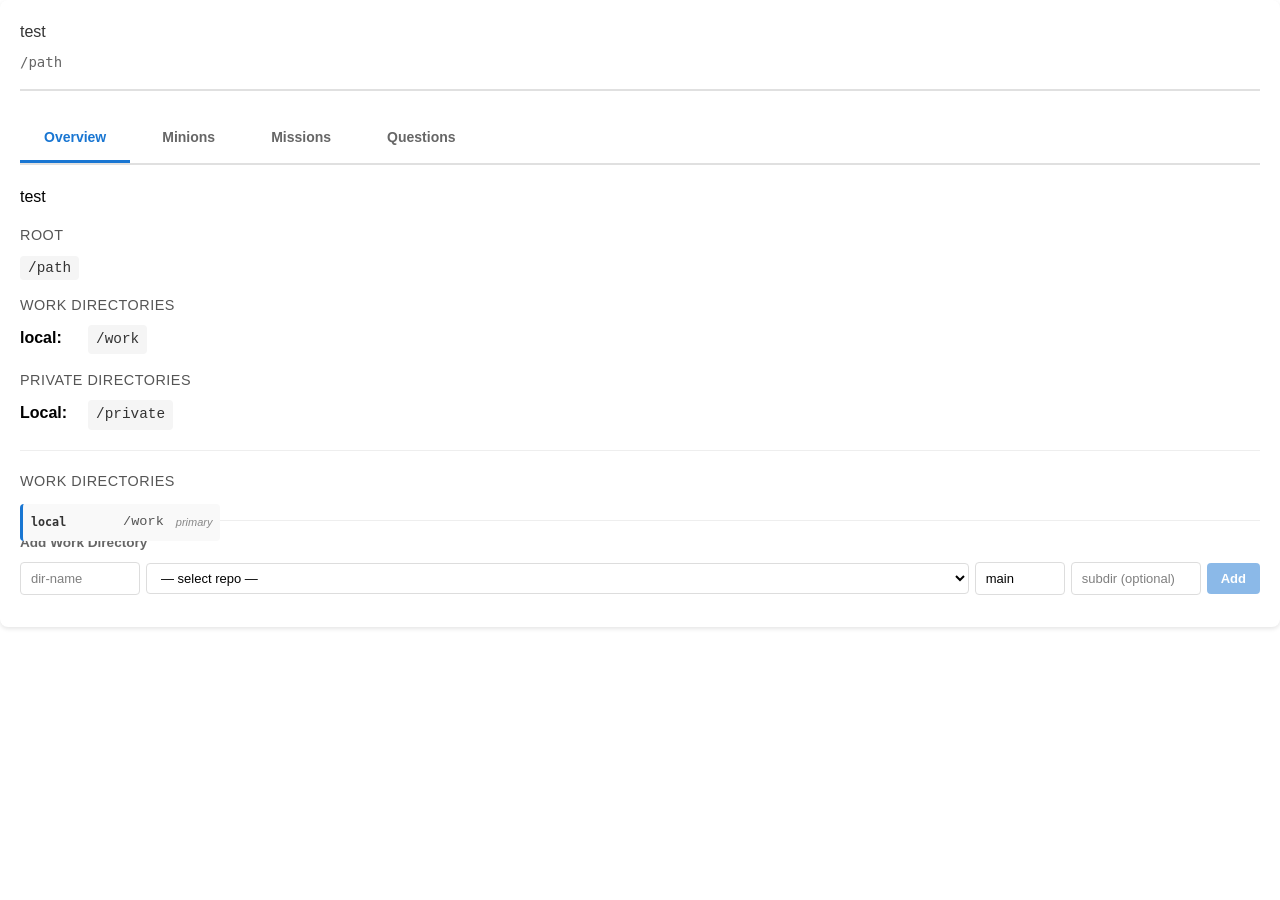
it: WingManagement › switches to minions tab when clicked
Click the button with class "tab-button" showing "Minions" at (189, 139), box [138, 115, 239, 163]
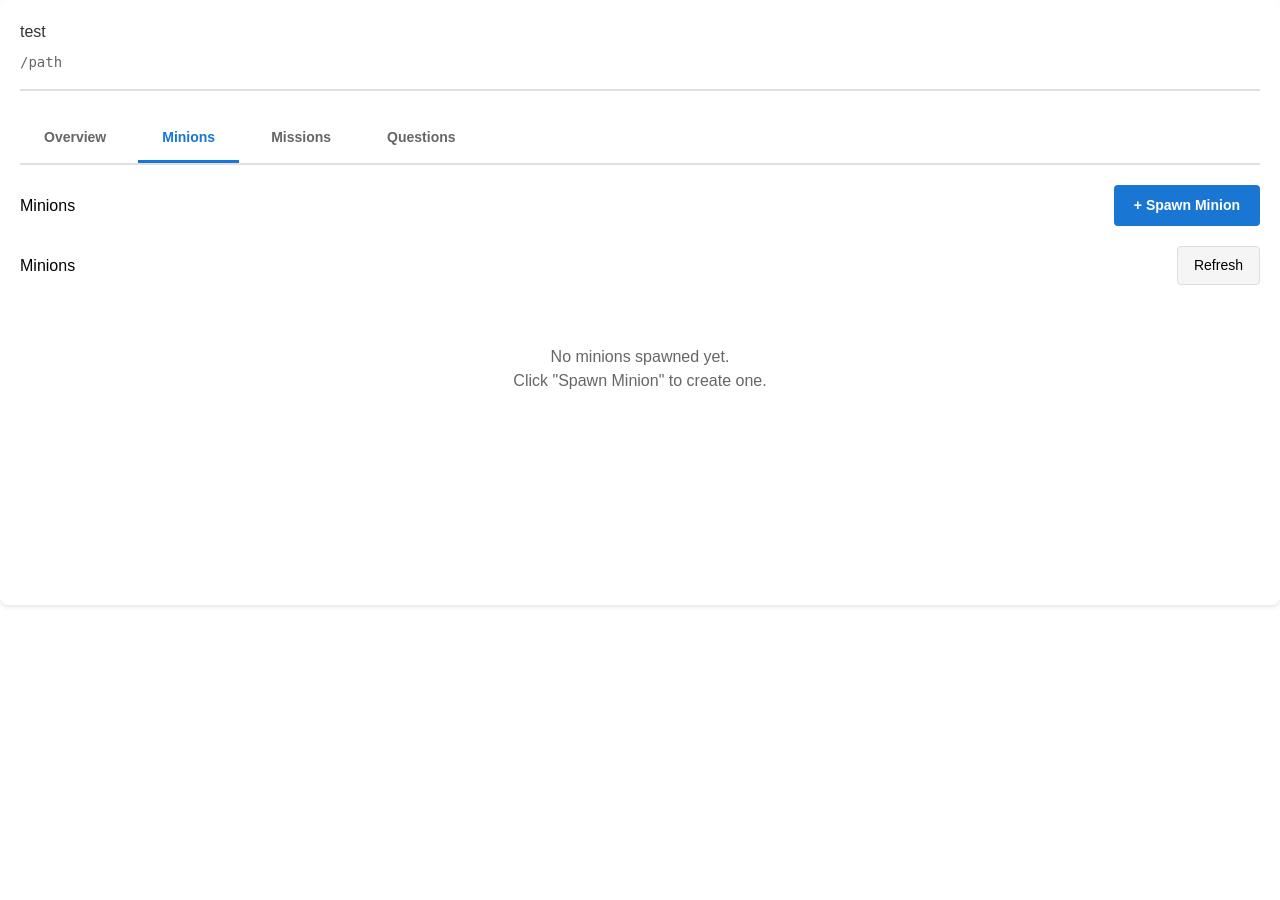
Expected: the text "Spawn Minion" is shown, [1114, 185, 1260, 226]
